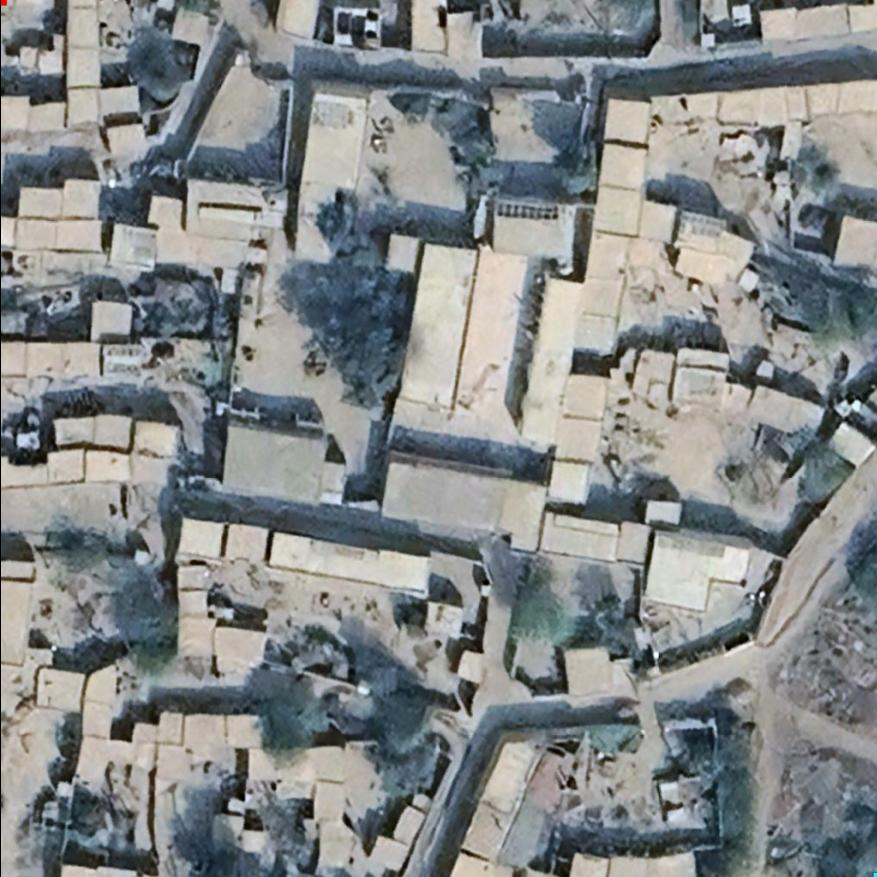Solarpanel: (673, 207, 730, 242), (489, 198, 563, 223)
